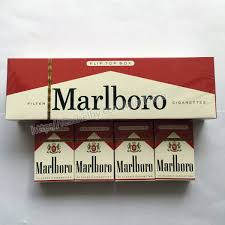marlboro: (115, 122, 154, 182), (74, 124, 115, 181), (33, 124, 73, 182), (155, 122, 194, 180)
